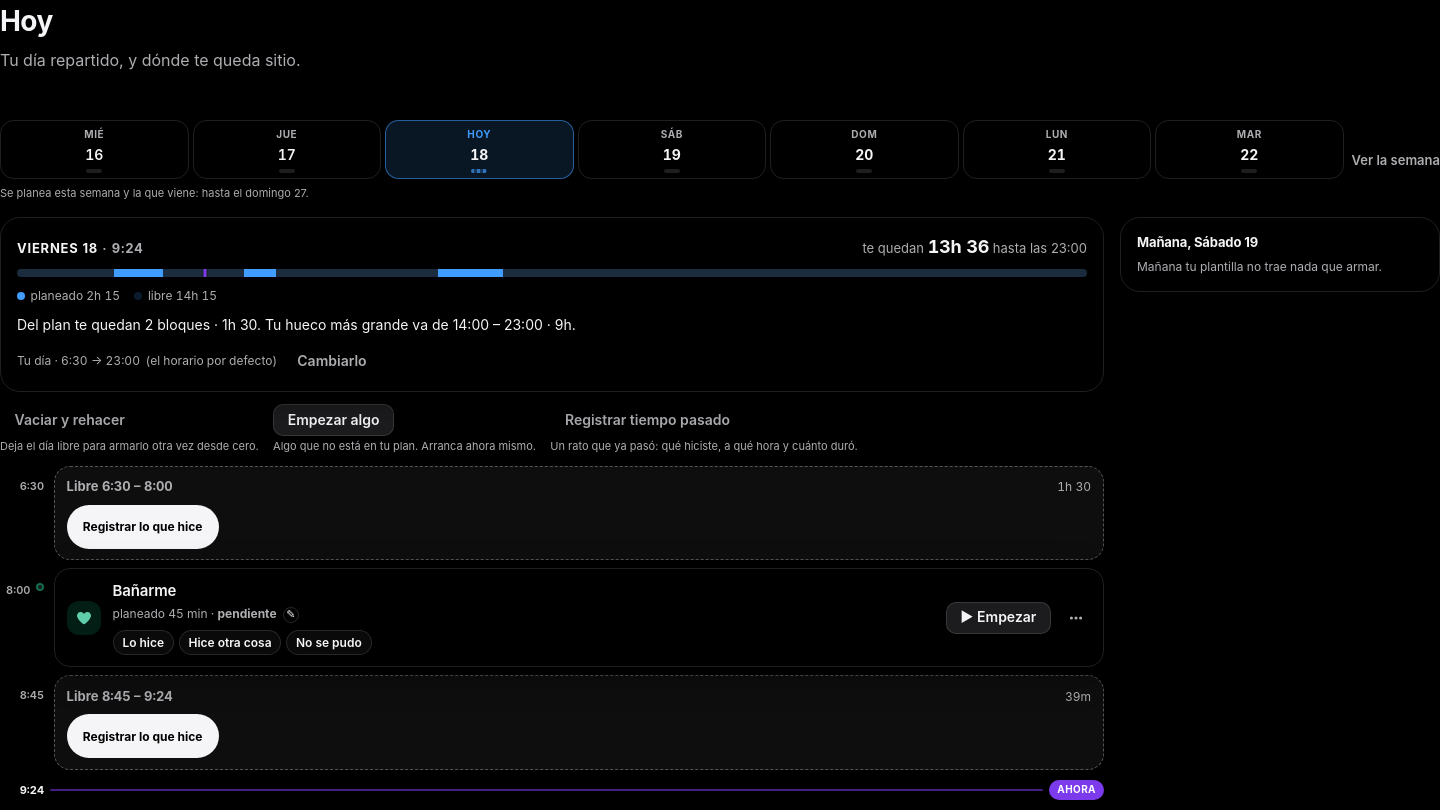
it: VidaHoyPage — cualquier día (tajada 4) › criterio 37 — la salida del diálogo es «Volver», nunca «Cancelar» (criterio 56)
Click the button "Vaciar y rehacer" at (70,420), box x1=0 y1=404 x2=140 y2=436
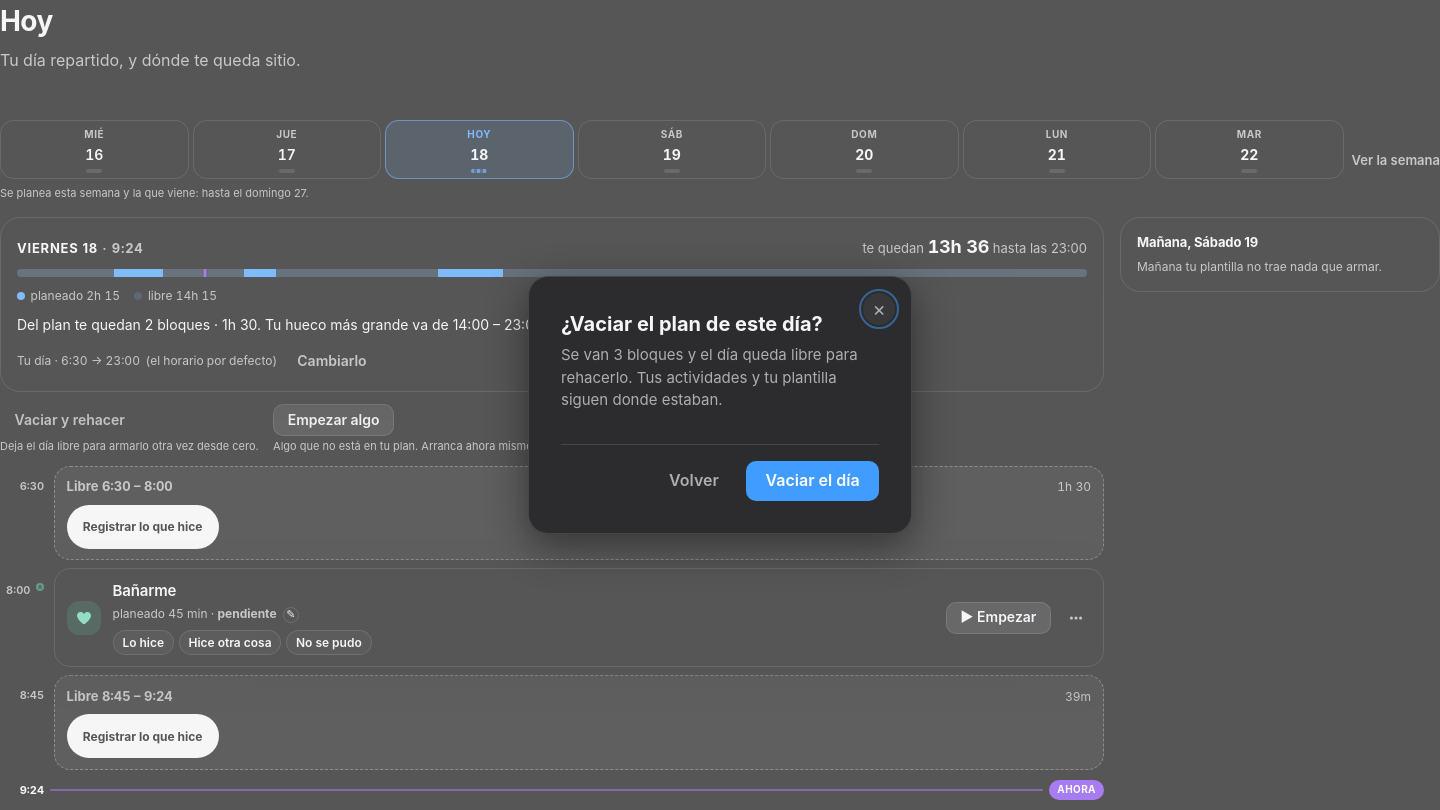
Result: the button "Volver" is shown at x1=650 y1=461 x2=738 y2=501
